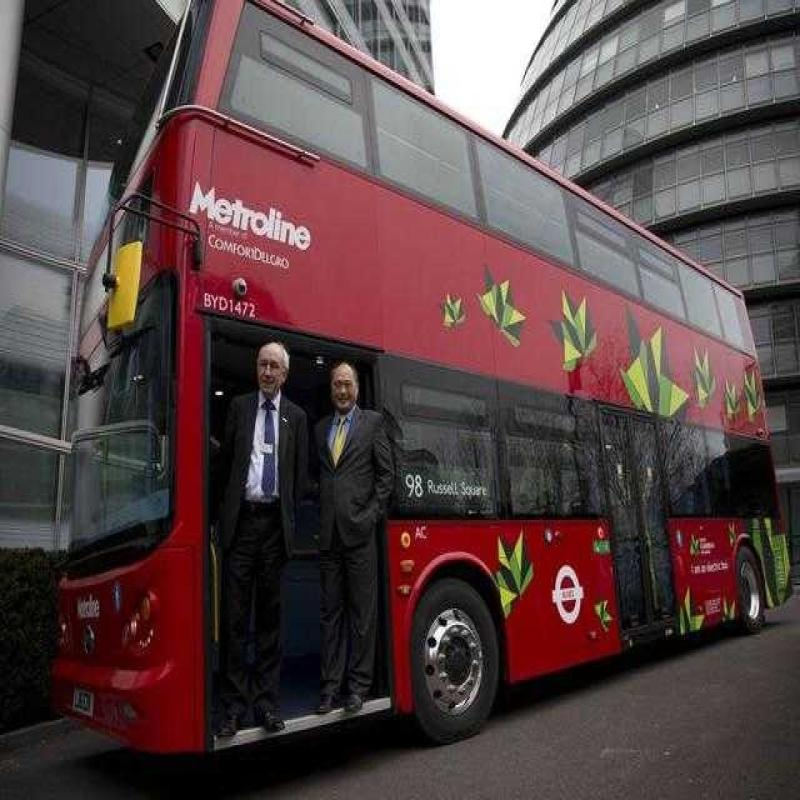bus: (49, 0, 800, 786)
